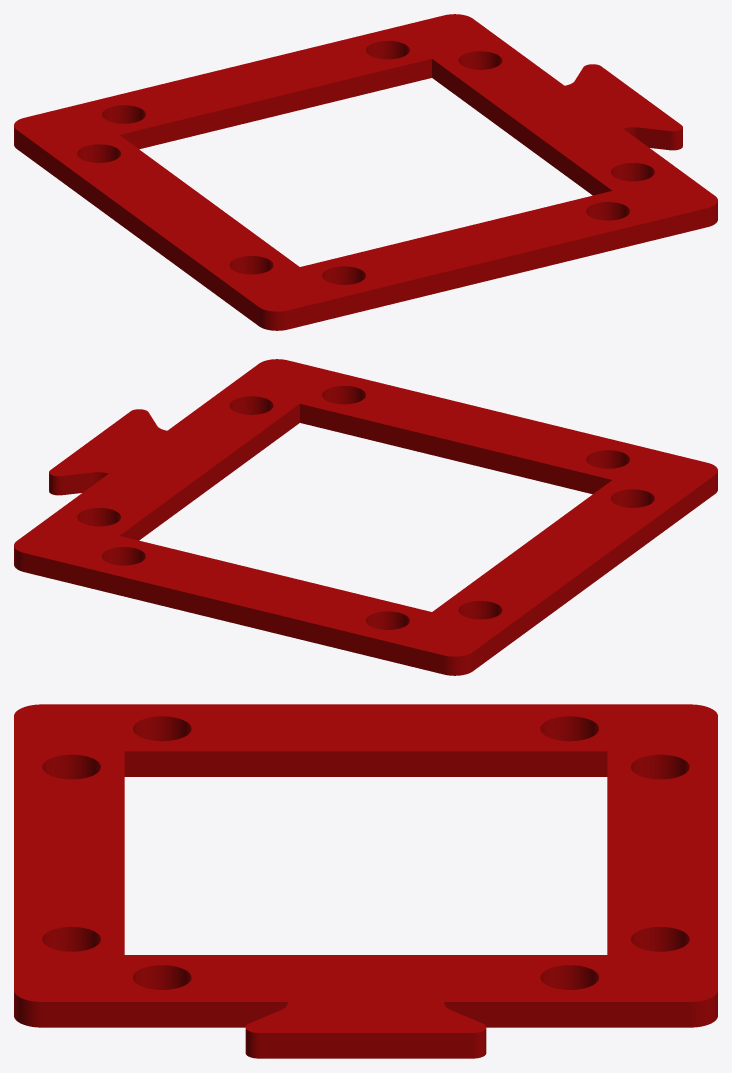
Rendered from V5_Interlinking Baseplate Pathed Male.obj.
3 views of the same model, one above another, from view 1: azimuth 30°, elevation 25°; view 2: azimuth 150°, elevation 25°; view 3: azimuth 270°, elevation 25° (orthographic). The views are drawn at different scales.
Parts seen in each view (by area): view 1: Solid1:39; view 2: Solid1:39; view 3: Solid1:39.
Boxes of the visible parts, x1=… form: Solid1:39: x1=14, y1=14, x2=717, y2=330; Solid1:39: x1=14, y1=359, x2=717, y2=675; Solid1:39: x1=14, y1=704, x2=717, y2=1058.
Size of the model in its own units: 54.92 by 2 by 49.75.
